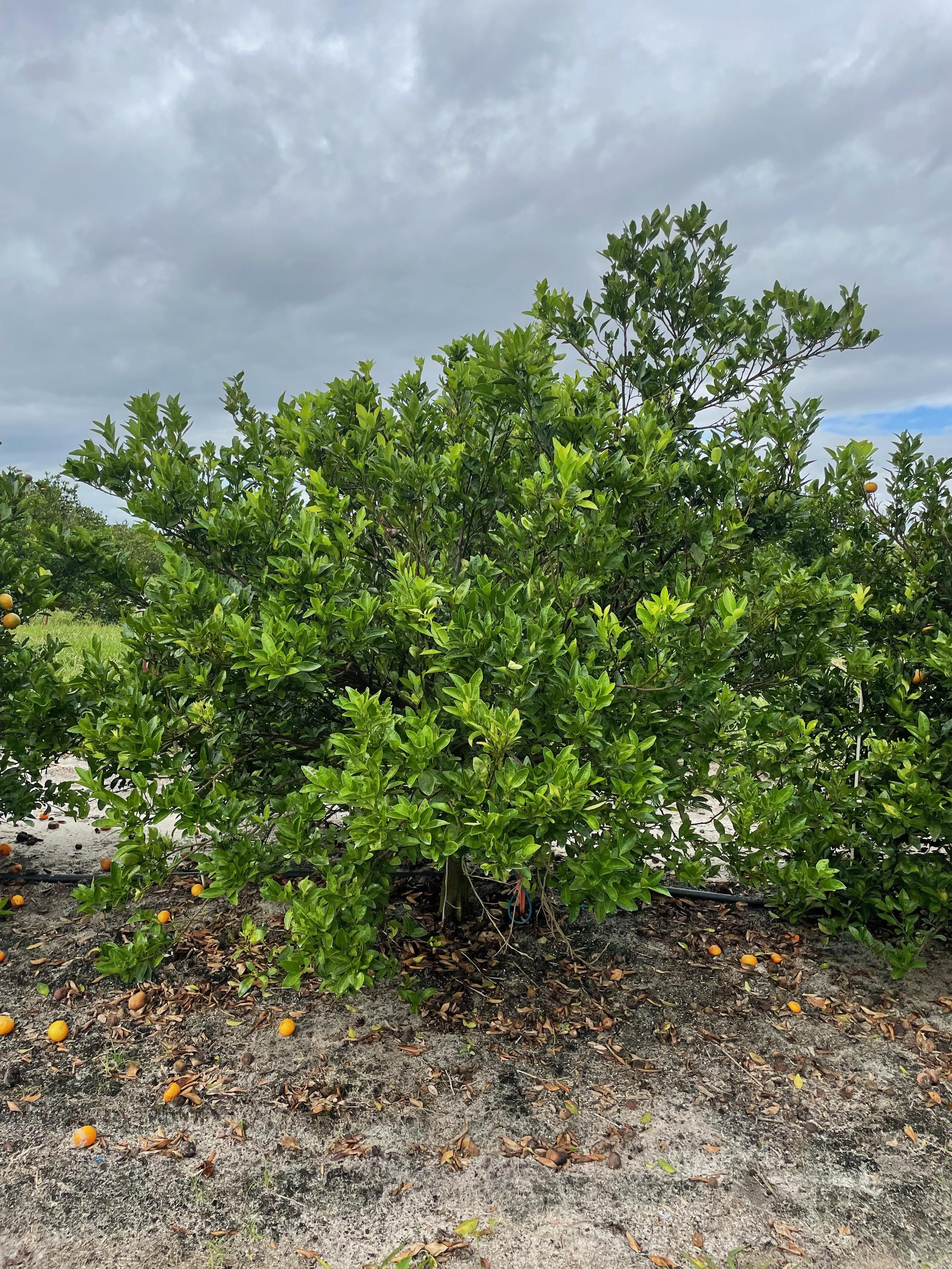fruit_on_ground: (905, 664, 929, 687), (2, 611, 22, 631), (0, 591, 16, 611), (863, 479, 879, 495)
fruit_on_tree: (71, 1123, 98, 1149), (46, 1018, 71, 1043), (126, 989, 149, 1011), (276, 1015, 297, 1039), (161, 1082, 182, 1103), (0, 1012, 16, 1036), (738, 951, 758, 969), (154, 907, 172, 924), (189, 881, 206, 898), (9, 892, 26, 909), (51, 985, 67, 1001), (787, 998, 803, 1014), (98, 855, 114, 871), (706, 942, 723, 957), (0, 840, 14, 856), (769, 950, 784, 964), (9, 861, 23, 873), (37, 808, 49, 820), (46, 819, 59, 830)
